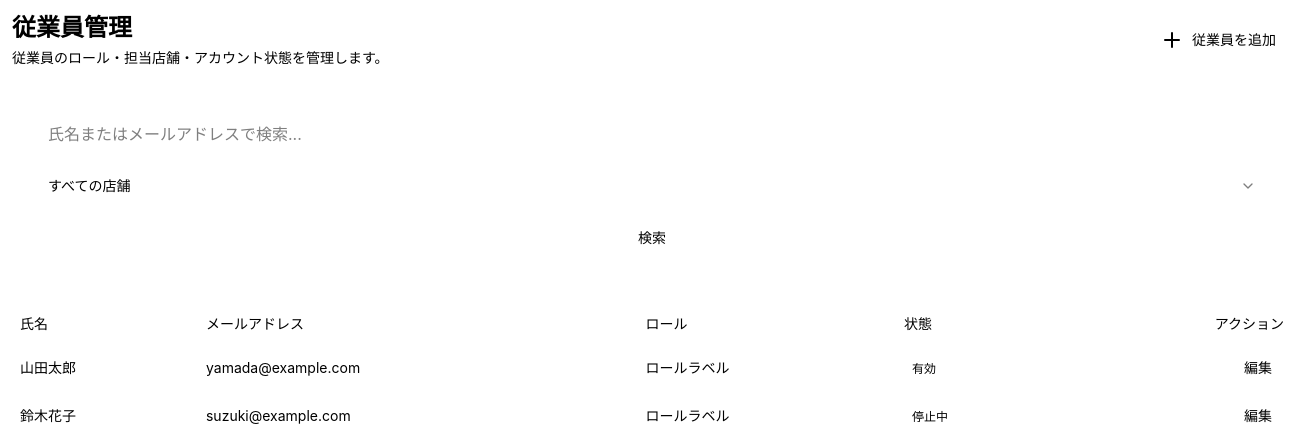
Test: 従業員管理ページ › 店舗コンテキストの授権店舗を絞り込みの候補に出すこと
Expected: the text "山田太郎" is shown, [12, 344, 198, 392]
Click the dropdown named "店舗で絞り込む" at (89, 186), box [36, 168, 1268, 204]
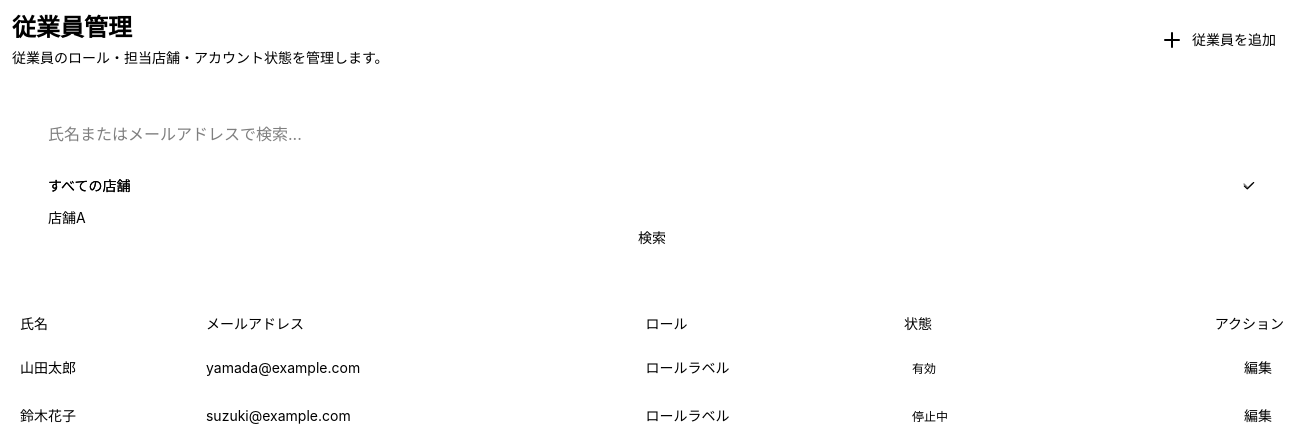
Expected: the option "店舗A" is shown, [48, 209, 86, 226]
